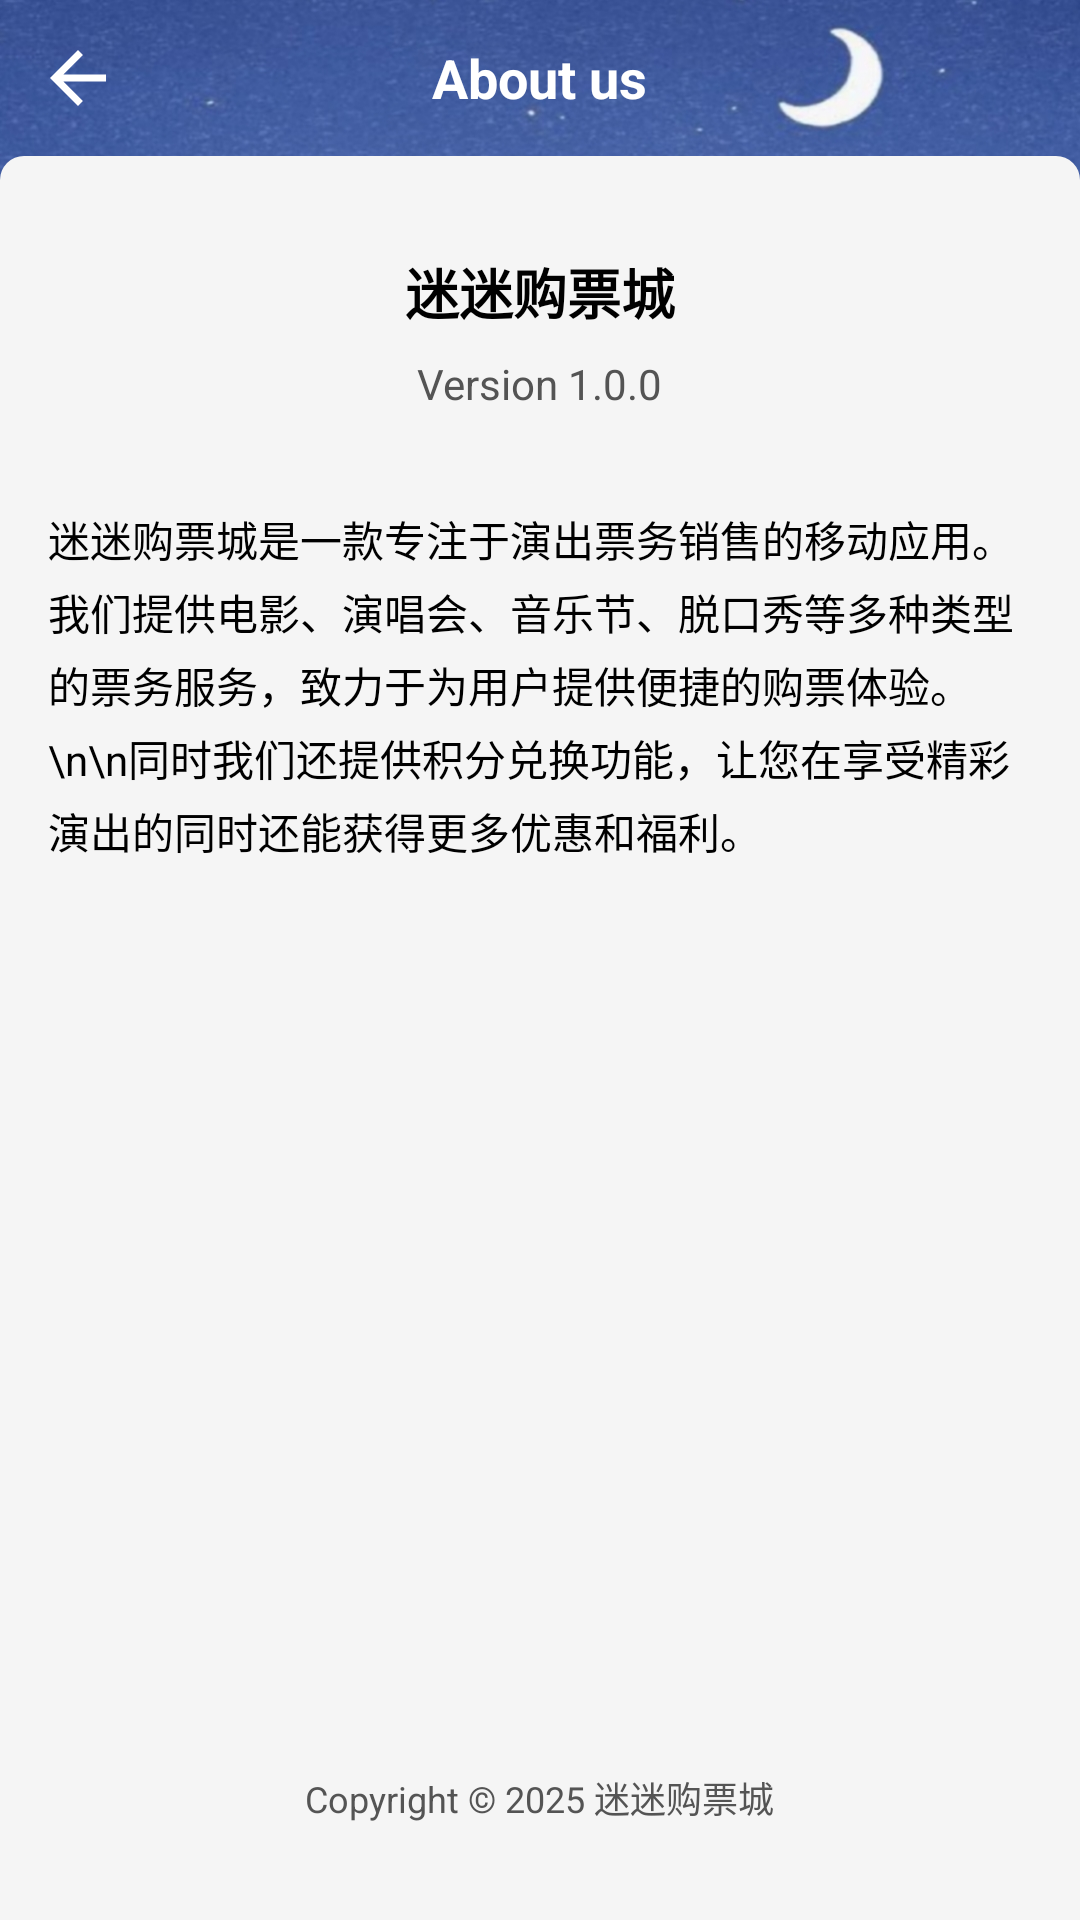

Named icons in this screenshot (1080*1920) and their bounding boxes, (x1,y1,x2,y2):
back: (50,50,106,106)
